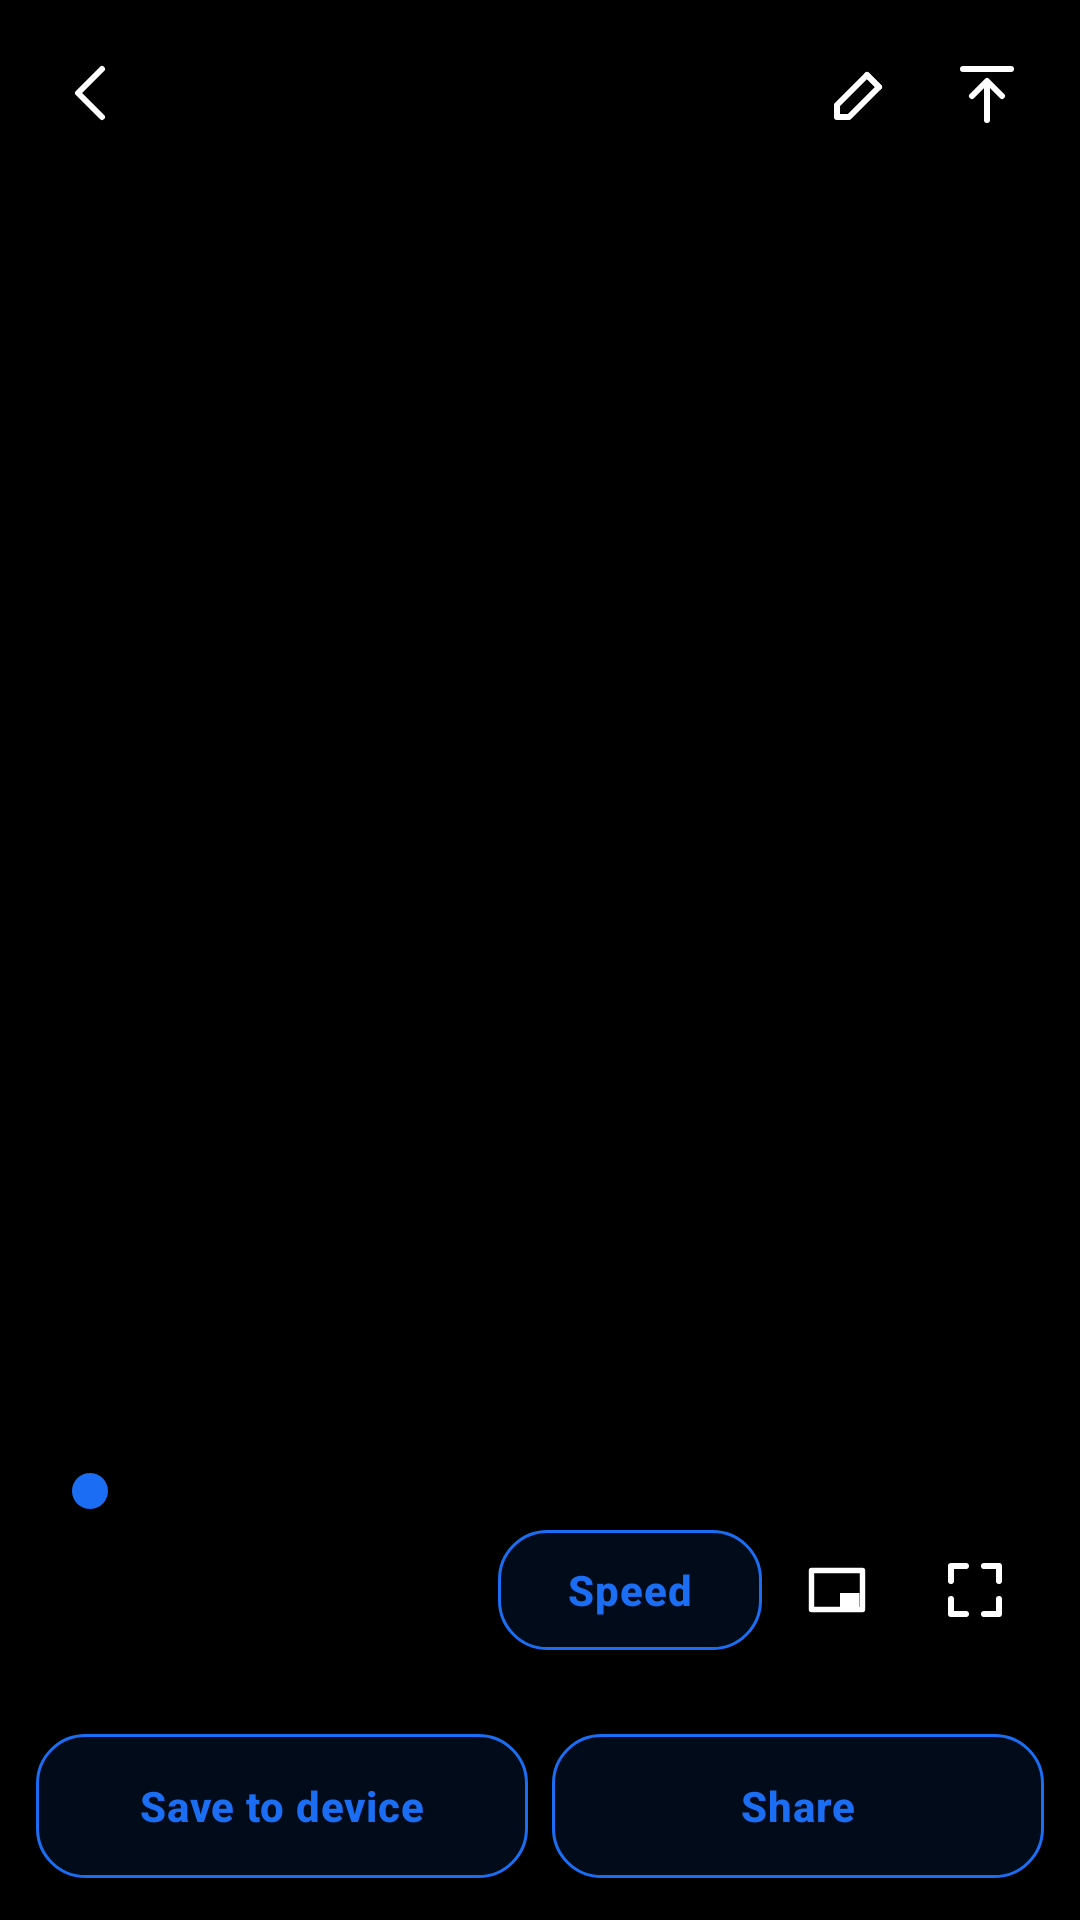

Screen size 1080 x 1920. Icon name, then its center in pixels as point (x, y):
Back: point (90, 92)
Edit: point (858, 95)
Floating player: point (837, 1590)
Upload: point (987, 94)
